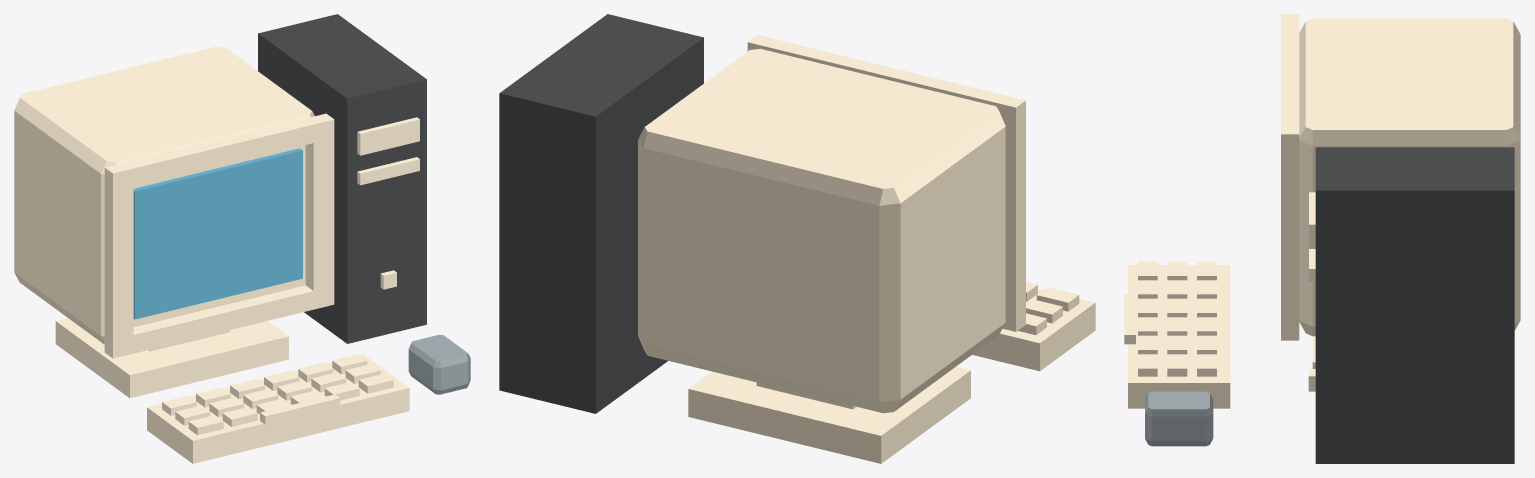
File: 08-computer.glb
3 renders of one model, left to right at view 1: azimuth 30°, elevation 25°; view 2: azimuth 150°, elevation 25°; view 3: azimuth 270°, elevation 25°, orthographic. The views are drawn at different scales.
Visible parts, largest first — view 1: 08-computer__CRTBody, 08-computer__Tower, 08-computer__Screen, 08-computer__StandBase, 08-computer__Keyboard, 08-computer__ScreenBezelSide_-0.38, 08-computer__ScreenBezelEdge_0.51, 08-computer__ScreenBezelEdge_0.14, 08-computer__ScreenBezelSide_0.08, 08-computer__Mouse, 08-computer__DriveLarge, 08-computer__Spacebar (+4 smaller); view 2: 08-computer__CRTBody, 08-computer__Tower, 08-computer__StandBase, 08-computer__ScreenBezelSide_-0.38, 08-computer__Keyboard, 08-computer__ScreenBezelEdge_0.51, 08-computer__Key_0_0; view 3: 08-computer__Tower, 08-computer__CRTBody, 08-computer__Keyboard, 08-computer__ScreenBezelSide_0.08, 08-computer__Mouse, 08-computer__ScreenBezelEdge_0.51, 08-computer__Spacebar, 08-computer__Key_1_5, 08-computer__Key_0_5, 08-computer__Key_2_5, 08-computer__Key_1_0, 08-computer__Key_1_2 (+1 smaller).
Boxes of the visible parts, <box> form: 08-computer__CRTBody: <box>14,46,314,344</box>; 08-computer__Tower: <box>258,14,426,343</box>; 08-computer__Screen: <box>133,148,302,319</box>; 08-computer__StandBase: <box>55,318,288,398</box>; 08-computer__Keyboard: <box>147,354,409,463</box>; 08-computer__ScreenBezelSide_-0.38: <box>104,162,133,358</box>; 08-computer__ScreenBezelEdge_0.51: <box>113,116,331,191</box>; 08-computer__ScreenBezelEdge_0.14: <box>115,285,331,357</box>; 08-computer__ScreenBezelSide_0.08: <box>305,113,334,309</box>; 08-computer__Mouse: <box>408,334,470,394</box>; 08-computer__DriveLarge: <box>357,117,419,155</box>; 08-computer__Spacebar: <box>260,394,340,424</box>; 08-computer__CRTBody: <box>638,48,1005,413</box>; 08-computer__Tower: <box>499,14,703,413</box>; 08-computer__StandBase: <box>688,366,970,463</box>; 08-computer__ScreenBezelSide_-0.38: <box>991,94,1025,331</box>; 08-computer__Keyboard: <box>972,288,1095,371</box>; 08-computer__ScreenBezelEdge_0.51: <box>750,35,1022,129</box>; 08-computer__Key_0_0: <box>1036,287,1079,311</box>; 08-computer__Tower: <box>1315,147,1514,463</box>; 08-computer__CRTBody: <box>1299,18,1520,336</box>; 08-computer__Keyboard: <box>1128,265,1230,408</box>; 08-computer__ScreenBezelSide_0.08: <box>1281,123,1299,340</box>; 08-computer__Mouse: <box>1145,391,1213,446</box>; 08-computer__ScreenBezelEdge_0.51: <box>1281,15,1299,132</box>; 08-computer__Spacebar: <box>1124,294,1135,344</box>; 08-computer__Key_1_5: <box>1167,354,1187,376</box>; 08-computer__Key_0_5: <box>1138,354,1157,376</box>; 08-computer__Key_2_5: <box>1197,354,1216,376</box>; 08-computer__Key_1_0: <box>1167,261,1187,280</box>; 08-computer__Key_1_2: <box>1167,298,1187,317</box>.
Bounding box in the file's own units: 0.7455 × 0.53 × 0.696.
